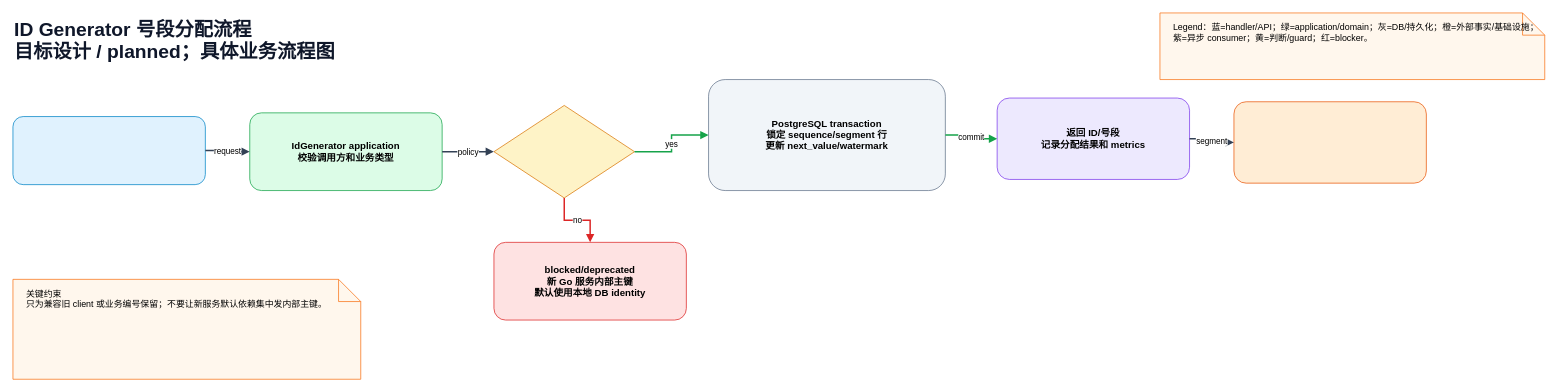
This 1558x392 diagram has some shape labels left out. Here are the shapes that lost their labels. From the top down, the box of each, then its label:
(12, 116, 205, 185): POST /ids/next 或 /segments Handler 解析 bizType/count
(493, 105, 635, 198): 是否仍需要集中发号？
(1233, 101, 1426, 183): 调用方缓存号段 本地消耗，耗尽再申请
